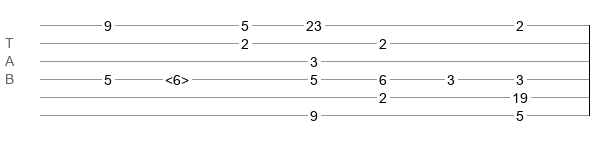19: (512, 90, 528, 100)
2: (241, 36, 249, 46), (379, 90, 387, 100), (379, 36, 387, 46), (516, 18, 524, 28)
23: (306, 18, 322, 28)
3: (310, 54, 318, 64), (447, 72, 455, 82), (516, 72, 524, 82)
5: (104, 72, 112, 82), (241, 18, 249, 28), (310, 72, 318, 82), (516, 108, 524, 118)
6: (379, 72, 387, 82)
9: (104, 18, 112, 28), (310, 108, 318, 118)
harmonic: (165, 72, 189, 82)
